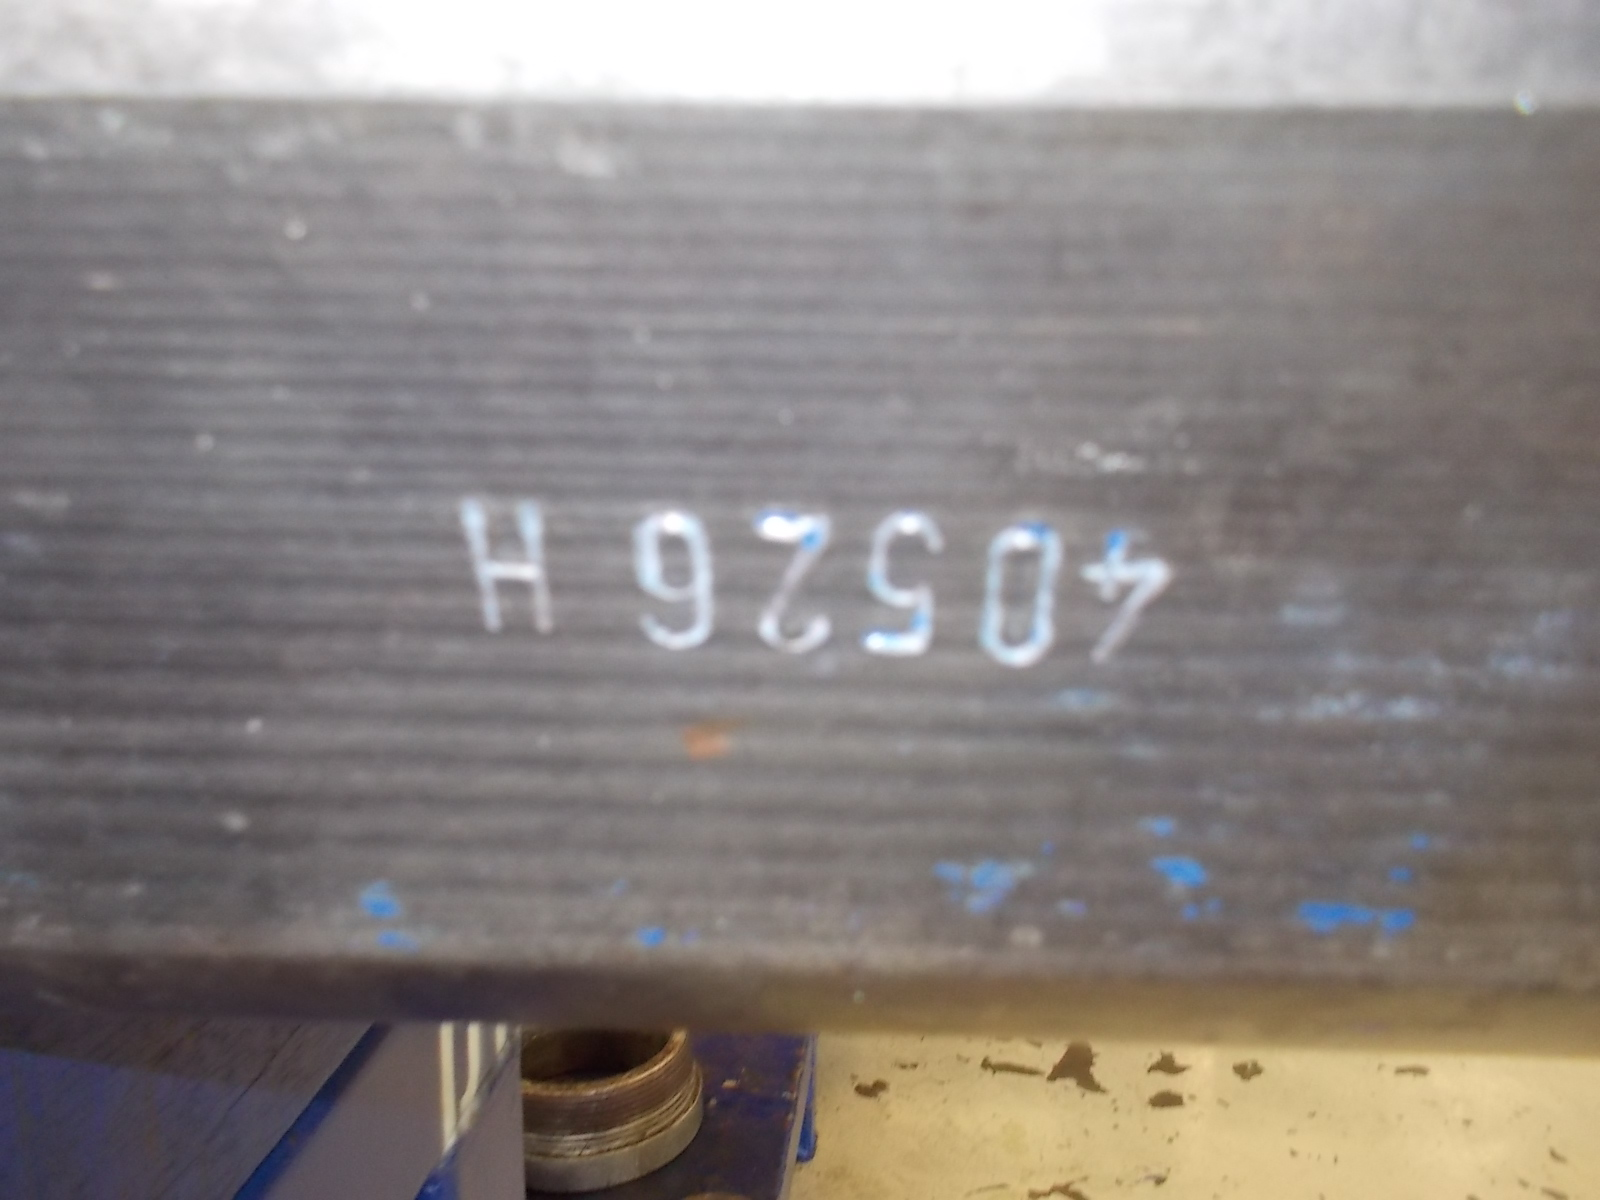character: (1062, 466, 1213, 707), (416, 476, 597, 663), (610, 479, 729, 681), (734, 479, 848, 687), (850, 487, 960, 687), (964, 493, 1061, 707)
